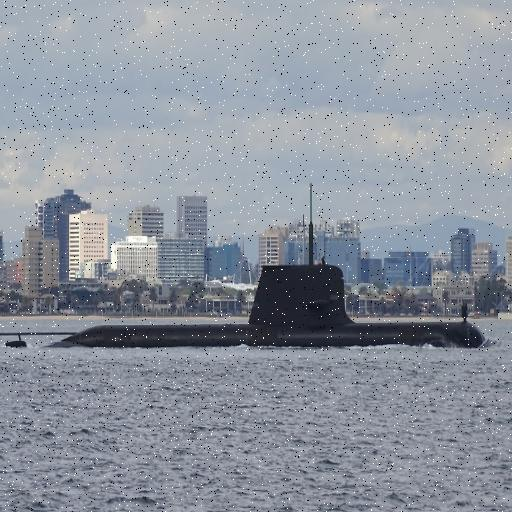submarine: (1, 182, 488, 349)
